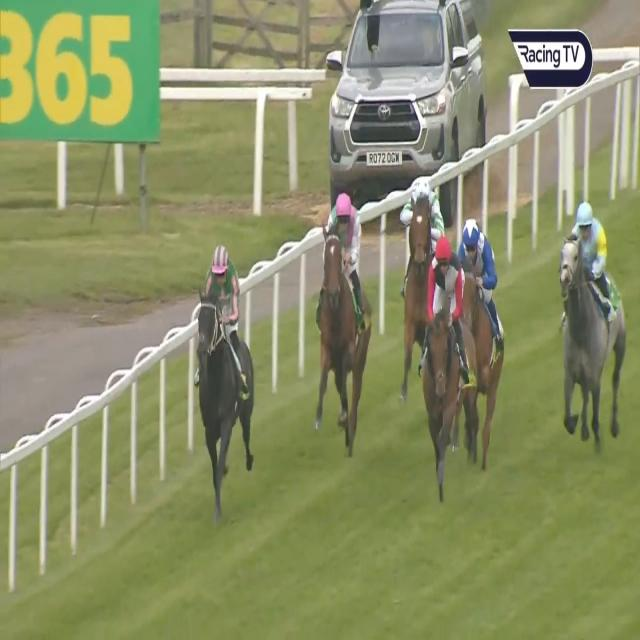horses-racing: (197, 232, 260, 510), (559, 197, 628, 442), (320, 186, 370, 447), (461, 216, 510, 469), (427, 236, 475, 479), (404, 174, 442, 342)
